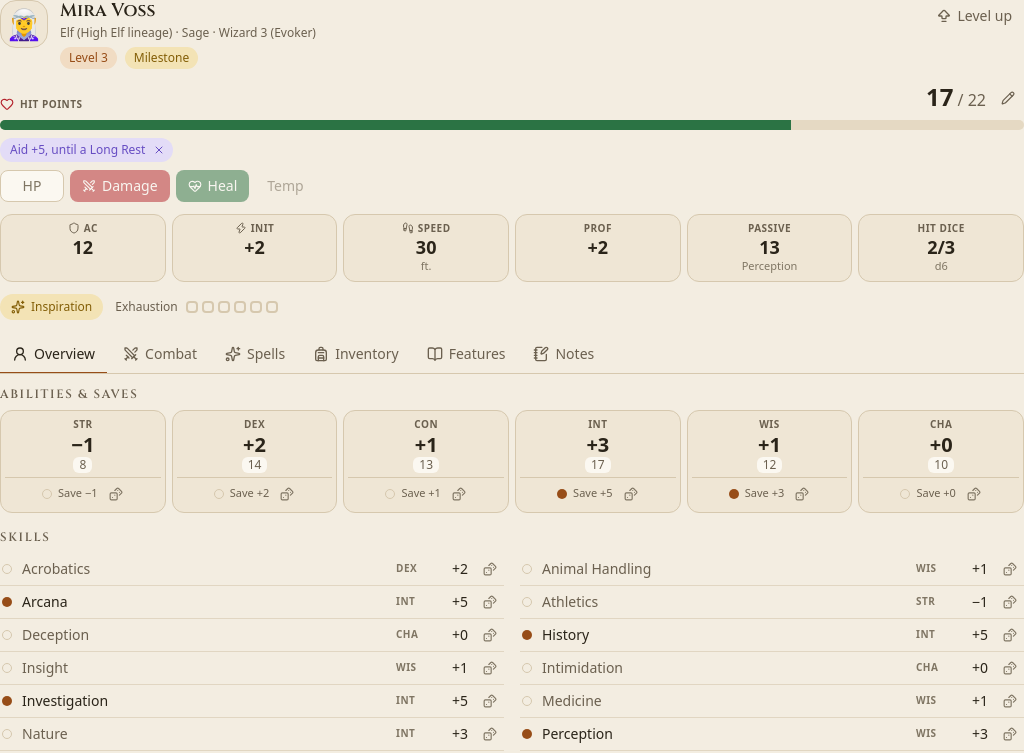
CharacterSheet — Hit Point maximum › shows a refusal in the preview and keeps Apply off (the same spell doesn't combine)
Click the button named "Adjust hit point maximum" at (1008, 98), box top-left (992, 82), bottom-right (1023, 114)
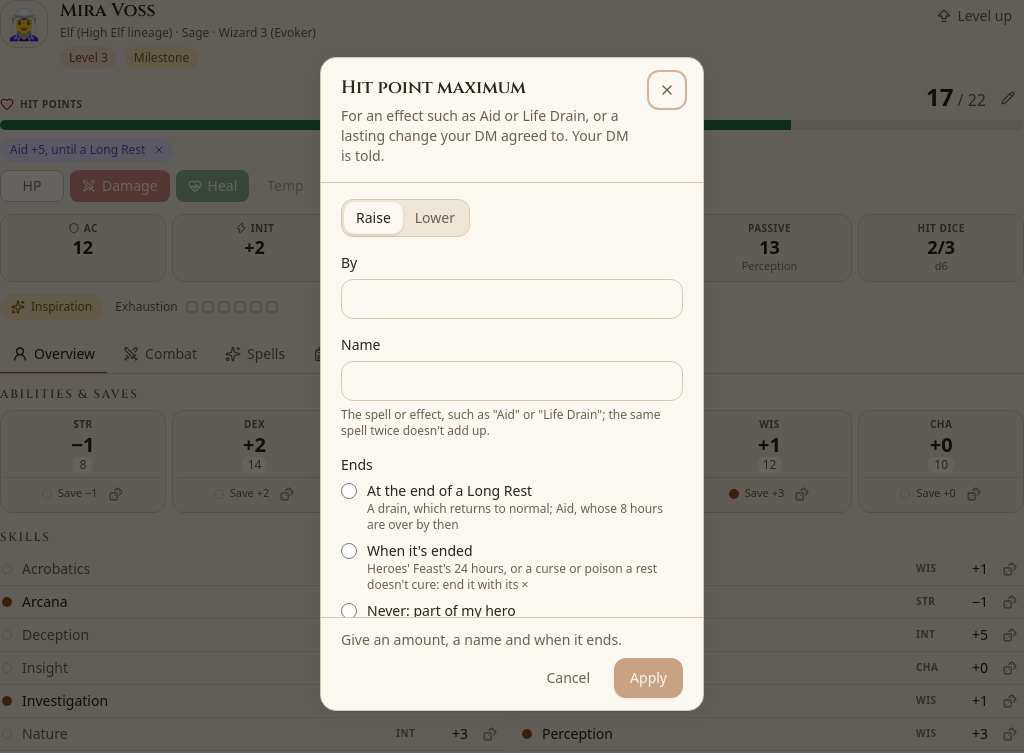
Type "5" into the number field labelled "By" at (512, 299), box top-left (341, 279), bottom-right (683, 319)
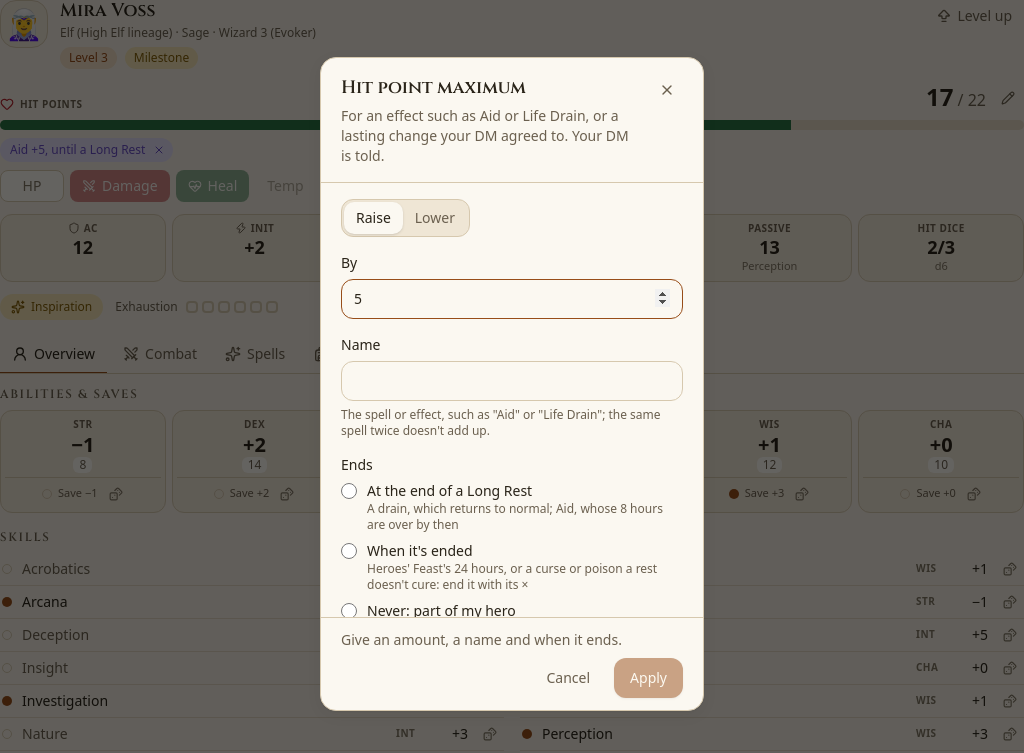
Type "Aid" into the field labelled "Name" at (512, 381), box top-left (341, 361), bottom-right (683, 401)
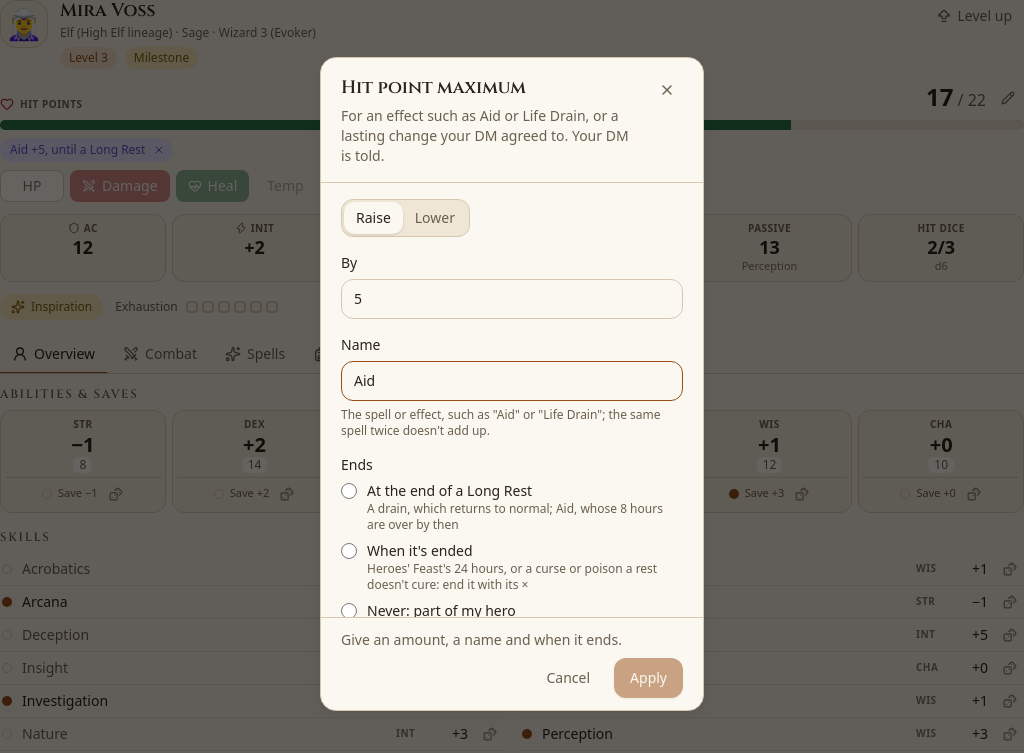
Click the radio button labelled "When it's ended" at (349, 551), box top-left (341, 543), bottom-right (357, 559)
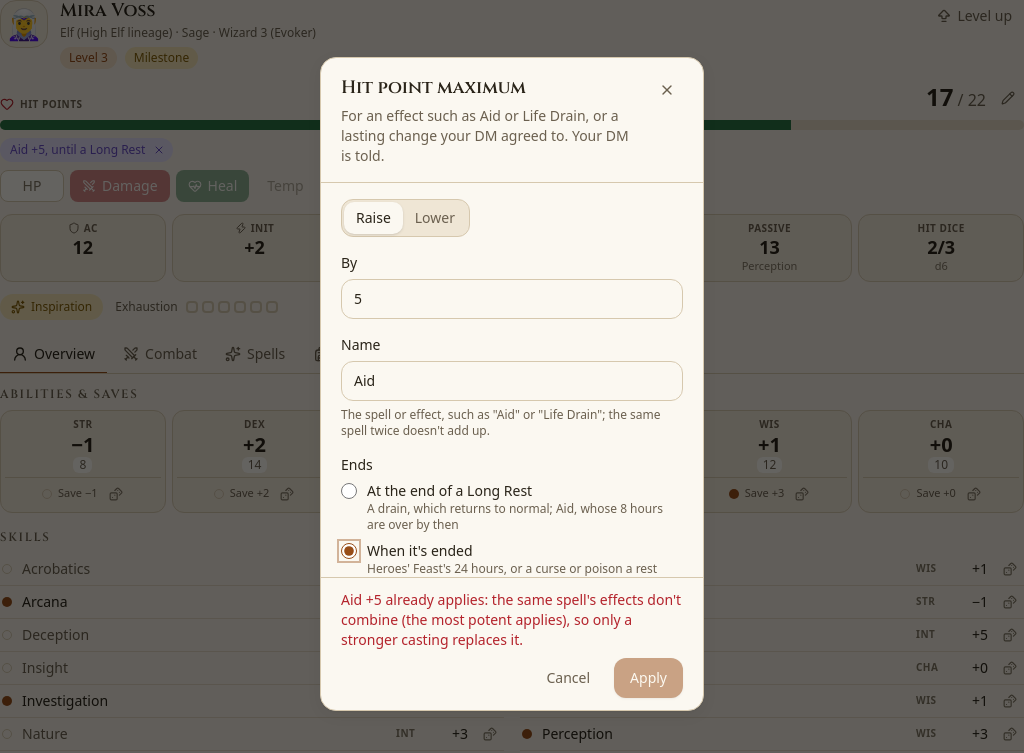
Now the button "Apply" is disabled, box top-left (614, 658), bottom-right (683, 698)
Now the text "Aid +5 already applies" is shown, box top-left (341, 590), bottom-right (681, 649)
